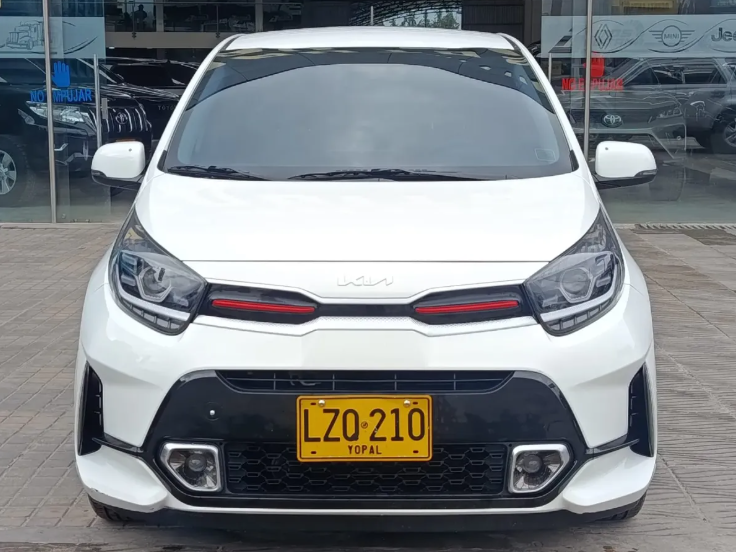placa: (296, 396, 433, 463)
